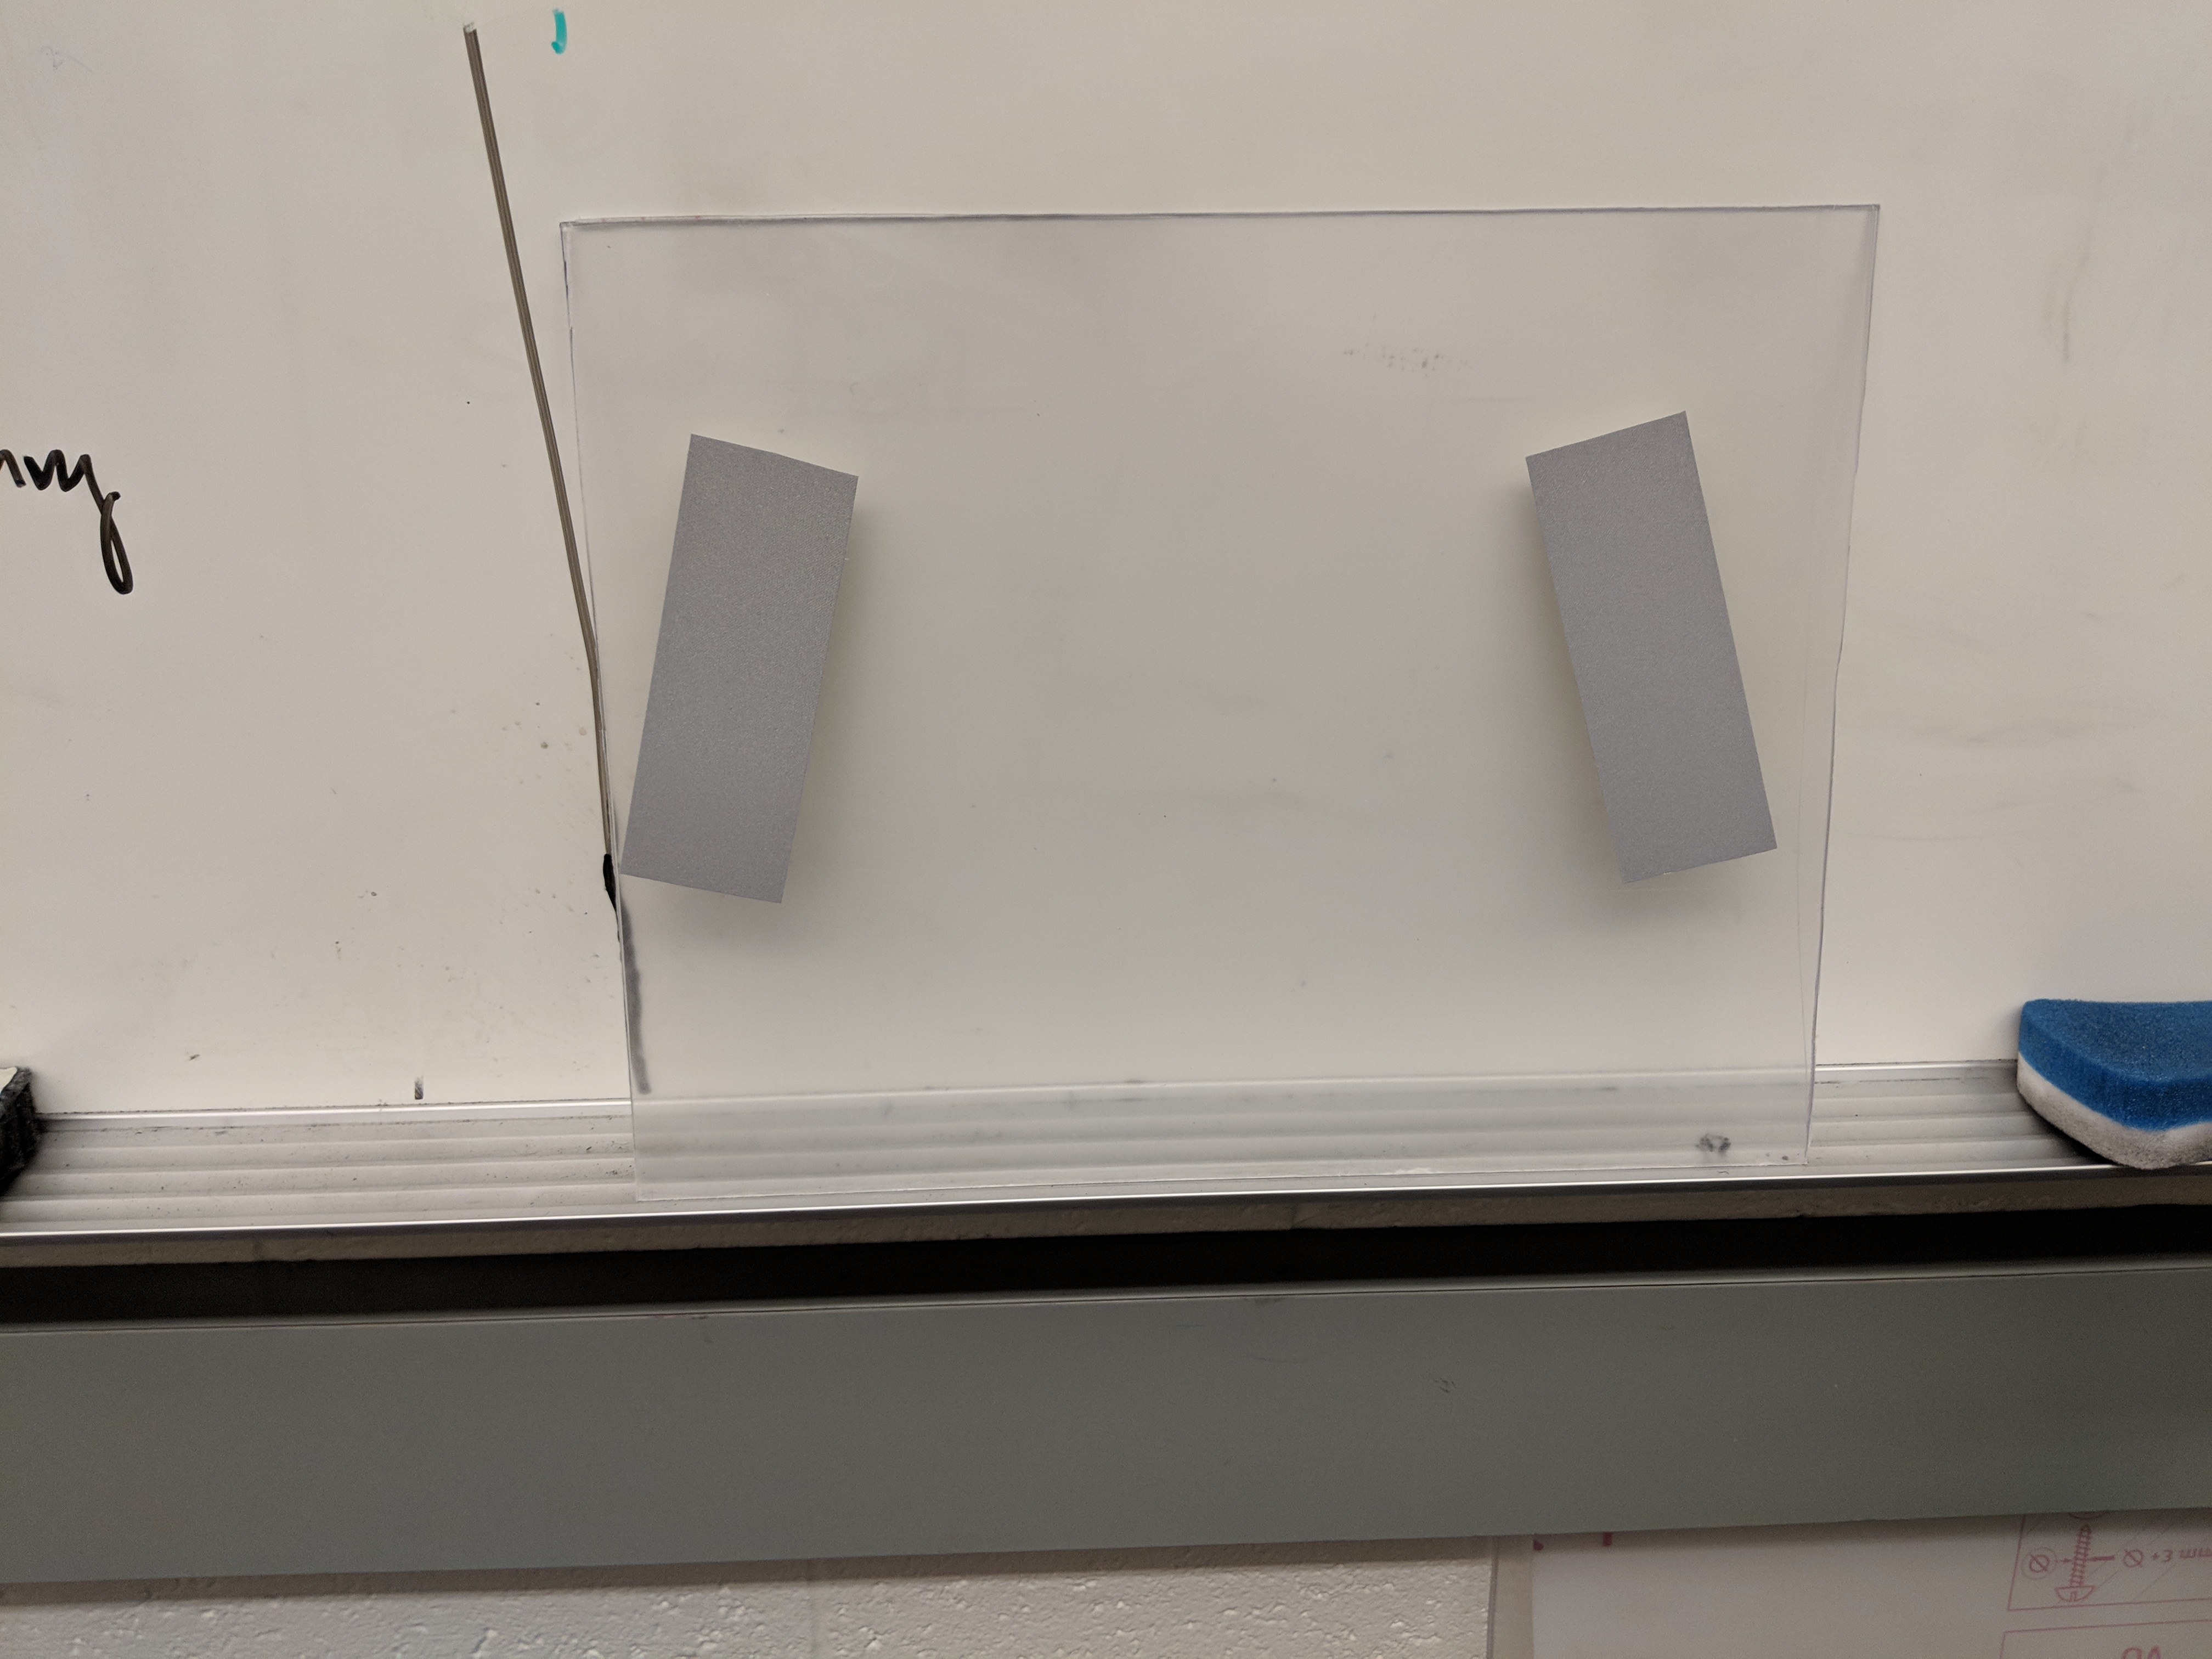vision_target: (606, 411, 1792, 922)
